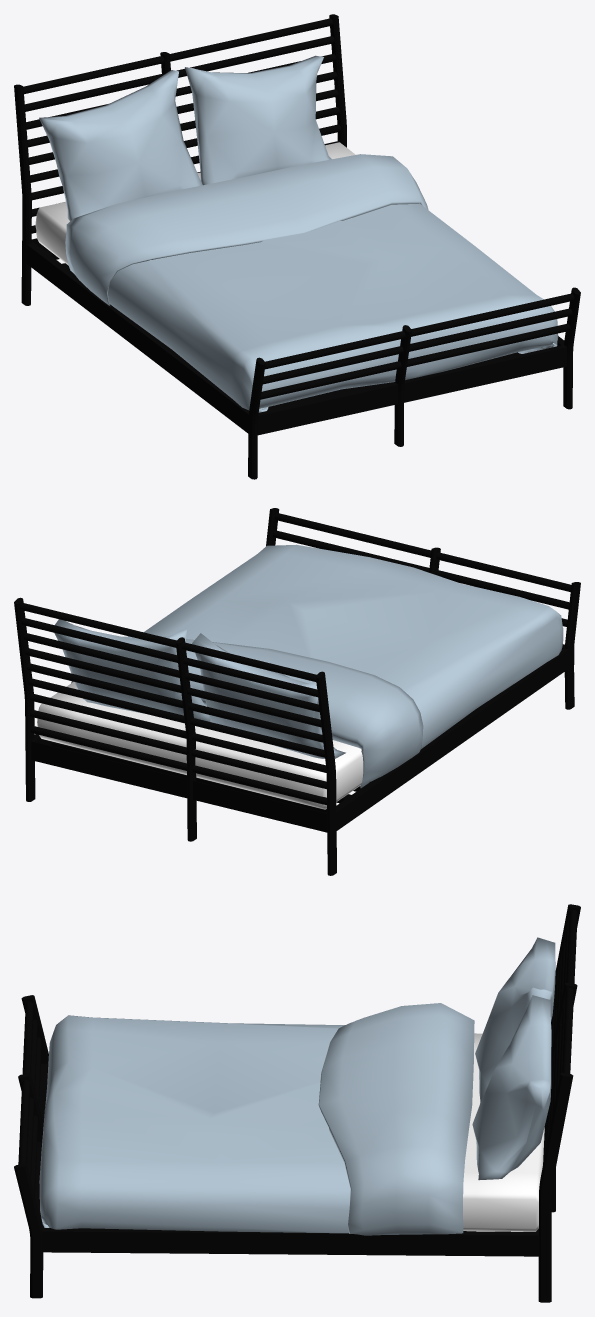
File: IKEA-Sorum_Queen_Bed_Frame-3D.FBX
The picture shows the model from 3 angles, top to bottom: view 1: azimuth 30°, elevation 25°; view 2: azimuth 150°, elevation 25°; view 3: azimuth 270°, elevation 25°; orthographic projection. The views are drawn at different scales.
Parts seen in each view (by area): view 1: Box01; view 2: Box01; view 3: Box01.
Part boxes in pixels (left/top/right/bottom): Box01: left=14, top=14, right=580, bottom=479; Box01: left=14, top=508, right=580, bottom=875; Box01: left=14, top=904, right=580, bottom=1302.
Size of the model in its own units: 1.67 by 2.29 by 1.04.
